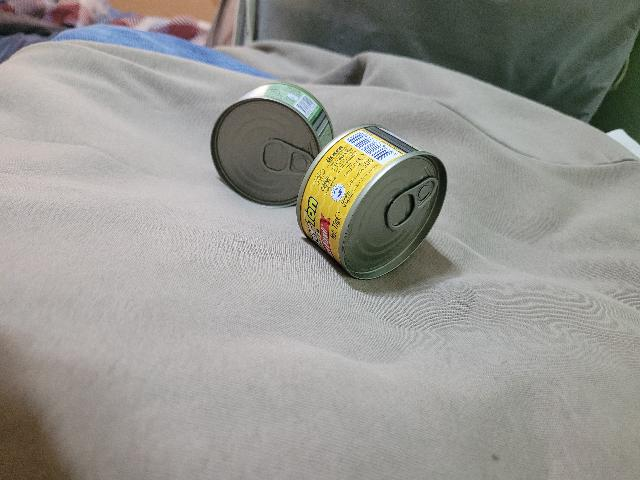Metal: (300, 123, 447, 281), (209, 81, 335, 210)
